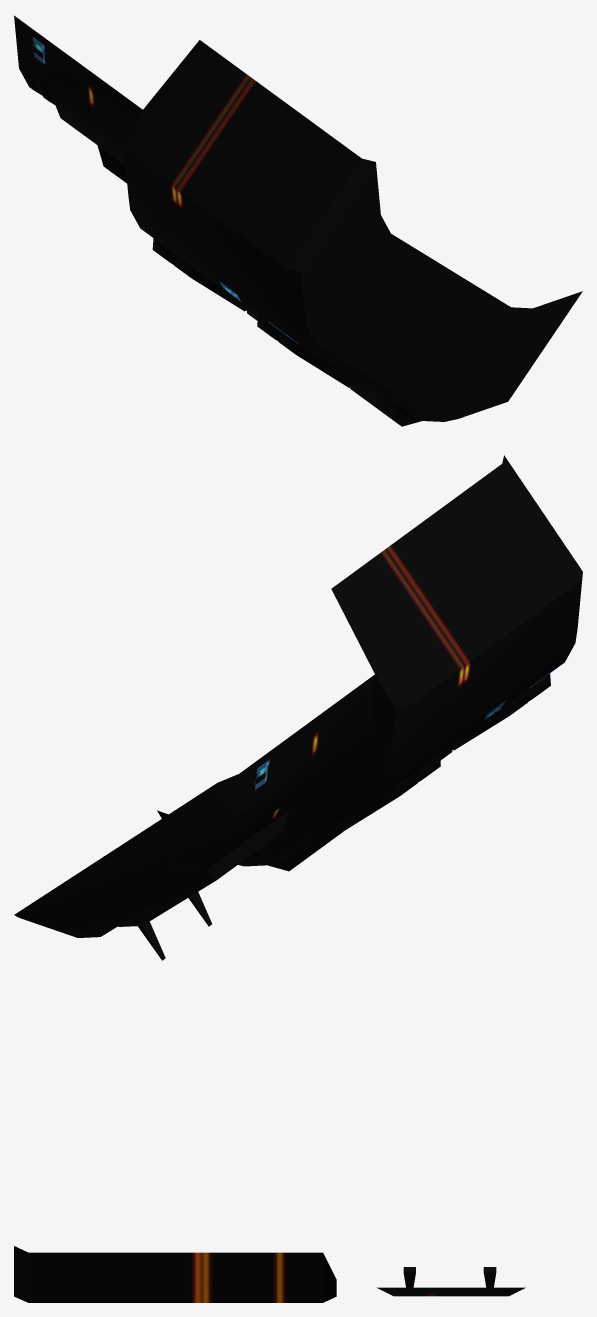
The model's file is hangar_hgn_carrier_01_advanced_t1_left.glb.
3 renders of one model, top to bottom at view 1: azimuth 30°, elevation 25°; view 2: azimuth 150°, elevation 25°; view 3: azimuth 270°, elevation 25°, orthographic. The views are drawn at different scales.
Visible parts, largest first — view 1: hangar_carrier_t1_large; view 2: hangar_carrier_t1_large; view 3: hangar_carrier_t1_large.
Part boxes in pixels (x1=…): hangar_carrier_t1_large: x1=14, y1=15, x2=582, y2=426; hangar_carrier_t1_large: x1=14, y1=455, x2=582, y2=960; hangar_carrier_t1_large: x1=14, y1=1246, x2=525, y2=1302.
Bounding box in the file's own units: 0.8833 × 0.8799 × 1.66.
1 material, 1 textured.
